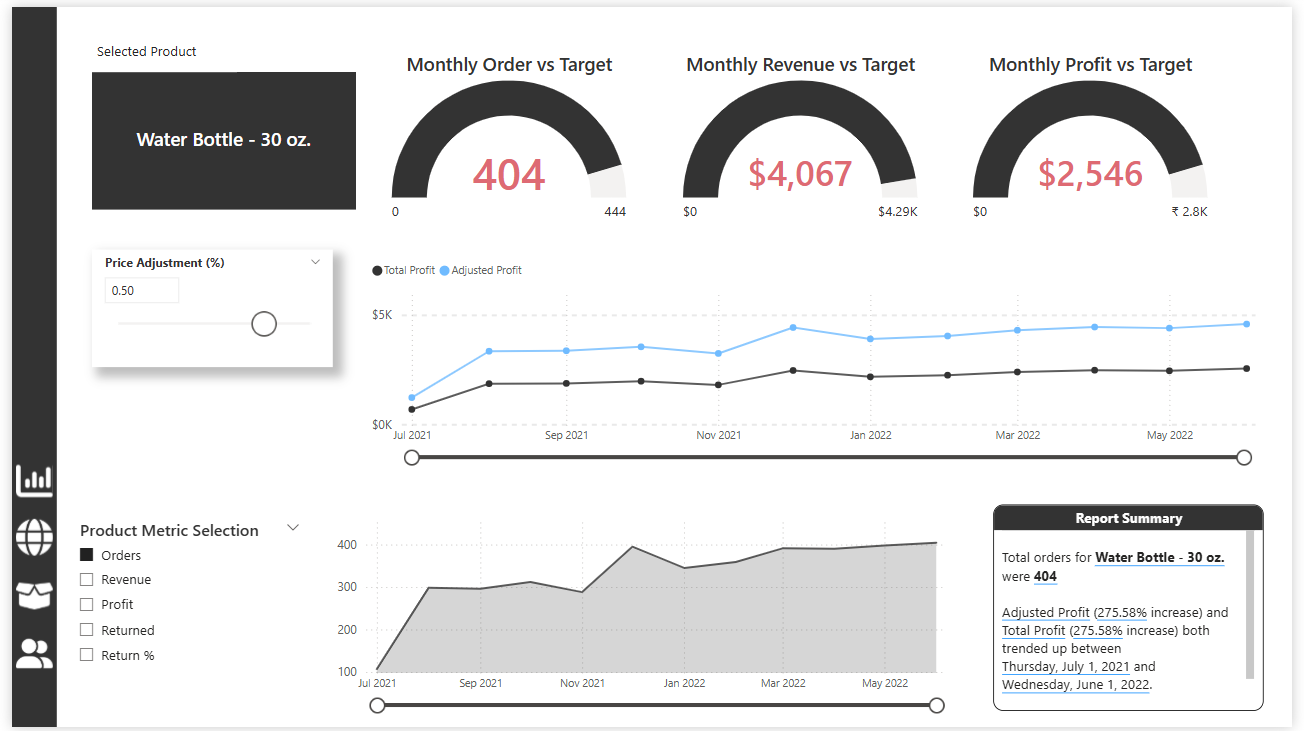

This screenshot's page, from the dashboard's own definition file:
{"tool":"powerbi","page":{"name":"Product Details","canvas":[1280,720],"ordinal":2},"visuals":[{"type":"gauge","title":"Monthly Order vs Target","fields":{"MaxValue":["Measure Table.Order Target"],"Y":["Measure Table.Total Order"]},"box":[373,44,249.5,179.8],"z":0},{"type":"actionButton","box":[0,449.4,45.2,47.7],"z":0,"group":"g1"},{"type":"gauge","title":"Monthly Profit vs Target","fields":{"Y":["Measure Table.Total Profit"],"MaxValue":["Measure Table.Profit Target"]},"box":[953.8,44,249.5,179.8],"z":1000},{"type":"actionButton","box":[0,505.7,45.2,47.7],"z":1000,"group":"g1"},{"type":"gauge","title":"Monthly Revenue vs Target","fields":{"Y":["Measure Table.Total Revenue"],"MaxValue":["Measure Table.Revenue Target"]},"box":[663.4,44,249.5,179.8],"z":2000},{"type":"actionButton","box":[0,564.3,45.2,47.7],"z":2000,"group":"g1"},{"type":"lineChart","title":"Profit Trending","fields":{"Category":["Calendar Lookup.Date Hierarchy.Year","Calendar Lookup.Date Hierarchy.Start of Quarter","Calendar Lookup.Date Hierarchy.Start of Month","Calendar Lookup.Date Hierarchy.Date"],"Y":["Measure Table.Total Profit","Measure Table.Adjusted Profit"]},"box":[355,245,907.5,216.2],"z":3000},{"type":"actionButton","box":[0,621.8,45.2,47.7],"z":3000,"group":"g1"},{"type":"areaChart","title":"Returns Trending","fields":{"Y":["Measure Table.Total Order"],"Category":["Calendar Lookup.Date Hierarchy.Year","Calendar Lookup.Date Hierarchy.Start of Month","Calendar Lookup.Date Hierarchy.Date"]},"box":[320.4,502.6,633.4,206.7],"z":4000},{"type":"shape","title":"Left Nav","box":[0,0,45,720],"z":5000},{"type":"card","fields":{"Values":["Min(Product Lookup.ProductName)"]},"box":[68.8,65,263.8,137.5],"z":6000},{"type":"textbox","box":[80,30,145,35],"z":7000},{"type":"group","id":"g1","title":"Group 1","box":[0,449.4,45.5,219],"z":8000},{"type":"slicer","fields":{"Values":["Price Adjument.Price Adjument"]},"box":[68.8,236.2,240,117.5],"z":9000},{"type":"slicer","fields":{"Values":["Product Metric Selection.Product Metric Selection"]},"box":[55,497.5,245,211.2],"z":10000},{"type":"textbox","title":"Report Summary","box":[980.7,497.7,270.2,206.7],"z":11000}]}

Visuals, with their boxes in screenshot pixels (x1, y1, x2, y2), scaled from the page's 1280x720 canvas onto the 1304x731 screenshot:
"Monthly Order vs Target" gauge: {"left": 380, "top": 45, "right": 634, "bottom": 227}
actionButton: {"left": 0, "top": 456, "right": 46, "bottom": 505}
"Monthly Profit vs Target" gauge: {"left": 972, "top": 45, "right": 1226, "bottom": 227}
actionButton: {"left": 0, "top": 513, "right": 46, "bottom": 562}
"Monthly Revenue vs Target" gauge: {"left": 676, "top": 45, "right": 930, "bottom": 227}
actionButton: {"left": 0, "top": 573, "right": 46, "bottom": 621}
"Profit Trending" lineChart: {"left": 362, "top": 249, "right": 1286, "bottom": 468}
actionButton: {"left": 0, "top": 631, "right": 46, "bottom": 680}
"Returns Trending" areaChart: {"left": 326, "top": 510, "right": 972, "bottom": 720}
"Left Nav" shape: {"left": 0, "top": 0, "right": 46, "bottom": 730}
card - Min(Product Lookup.ProductName): {"left": 70, "top": 66, "right": 339, "bottom": 206}
textbox: {"left": 82, "top": 30, "right": 229, "bottom": 66}
"Group 1" group: {"left": 0, "top": 456, "right": 46, "bottom": 679}
slicer - Price Adjument.Price Adjument: {"left": 70, "top": 240, "right": 315, "bottom": 359}
slicer - Product Metric Selection.Product Metric Selection: {"left": 56, "top": 505, "right": 306, "bottom": 720}
"Report Summary" textbox: {"left": 999, "top": 505, "right": 1274, "bottom": 715}
